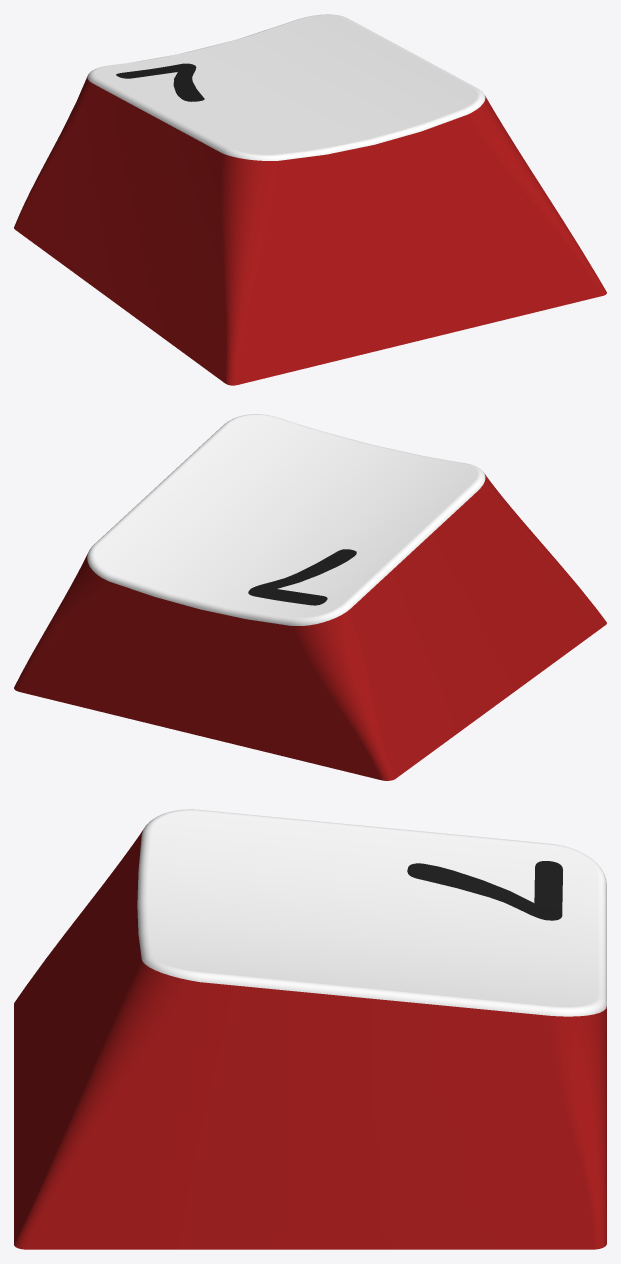
File: NUM 7 Homeless.fbx
3 renders of one model, top to bottom at view 1: azimuth 30°, elevation 25°; view 2: azimuth 150°, elevation 25°; view 3: azimuth 270°, elevation 25°, orthographic. The views are drawn at different scales.
Parts seen in each view (by area): view 1: Body1; view 2: Body1; view 3: Body1.
Part boxes in pixels (x1=…): Body1: x1=14, y1=14, x2=606, y2=385; Body1: x1=14, y1=414, x2=606, y2=780; Body1: x1=14, y1=809, x2=606, y2=1249.
Size of the model in its own units: 18 by 7.85 by 18.
